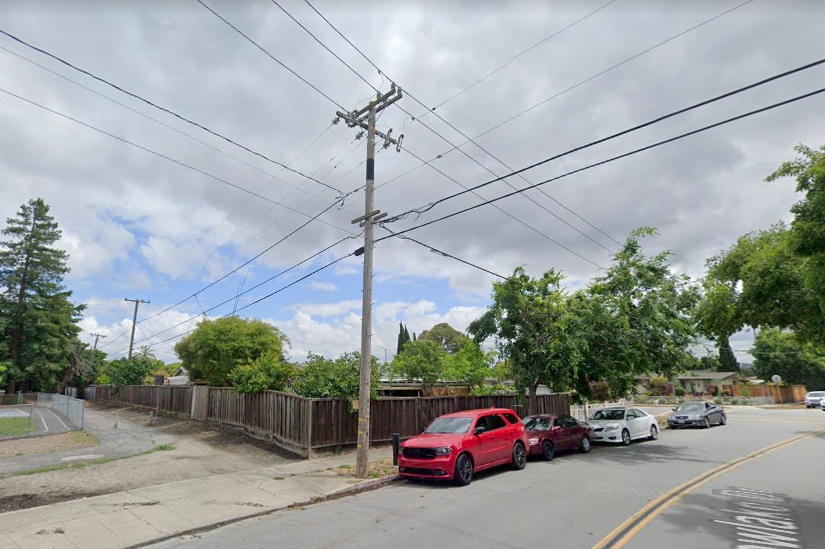utility_pole: (322, 71, 416, 188)
